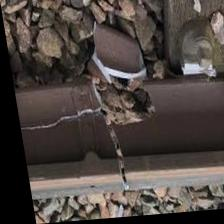person: (43, 63, 193, 201)
